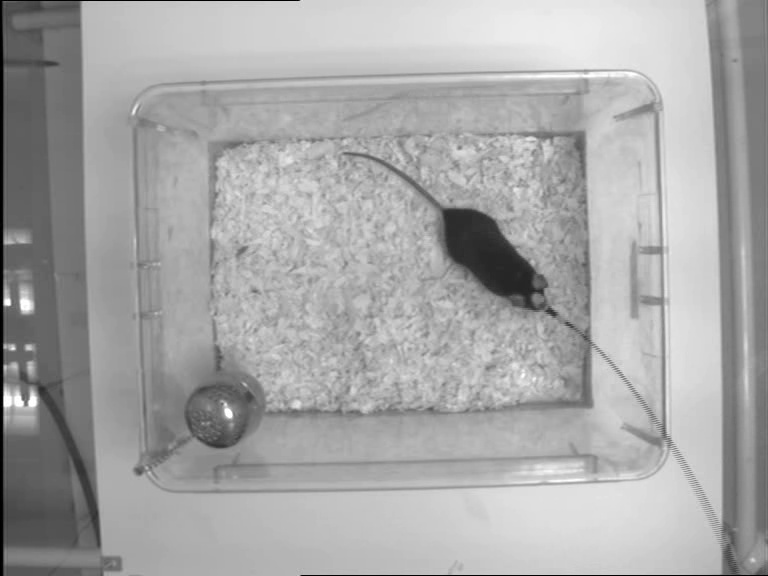mice: (341, 148, 558, 316)
